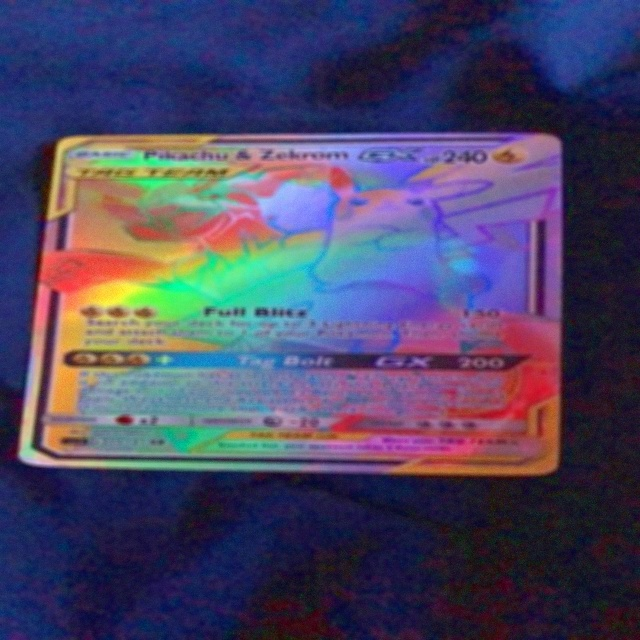card: (14, 132, 566, 477)
